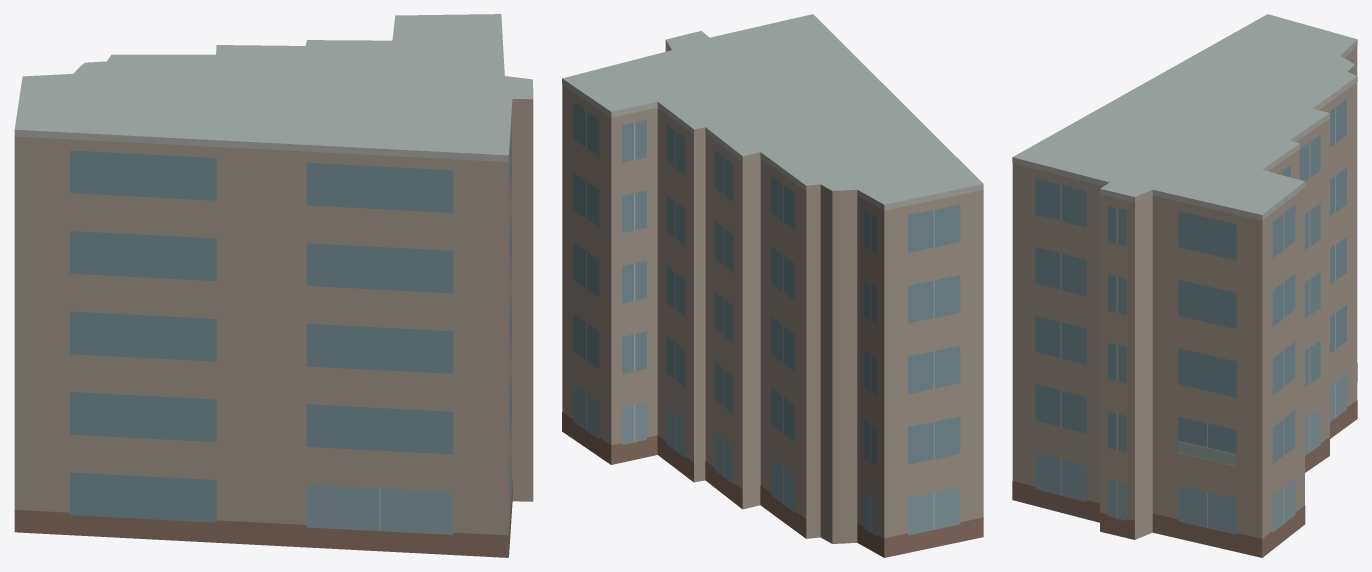
File: survey-upis-32633042.glb
3 renders of one model, left to right at view 1: azimuth 30°, elevation 25°; view 2: azimuth 150°, elevation 25°; view 3: azimuth 270°, elevation 25°, orthographic. The views are drawn at different scales.
Parts seen in each view (by area): view 1: survey-upis-32633042.tmp; view 2: survey-upis-32633042.tmp; view 3: survey-upis-32633042.tmp.
Part boxes in pixels (x1,y1,x2,y2): survey-upis-32633042.tmp: [14, 14, 533, 557]; survey-upis-32633042.tmp: [562, 14, 983, 557]; survey-upis-32633042.tmp: [1012, 14, 1357, 557].
Bounding box in the file's own units: 18.37 × 14.6 × 13.32.
